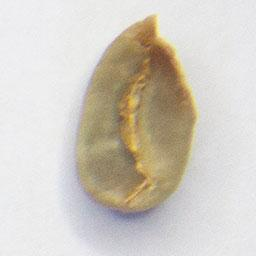defect: (71, 11, 201, 218)
